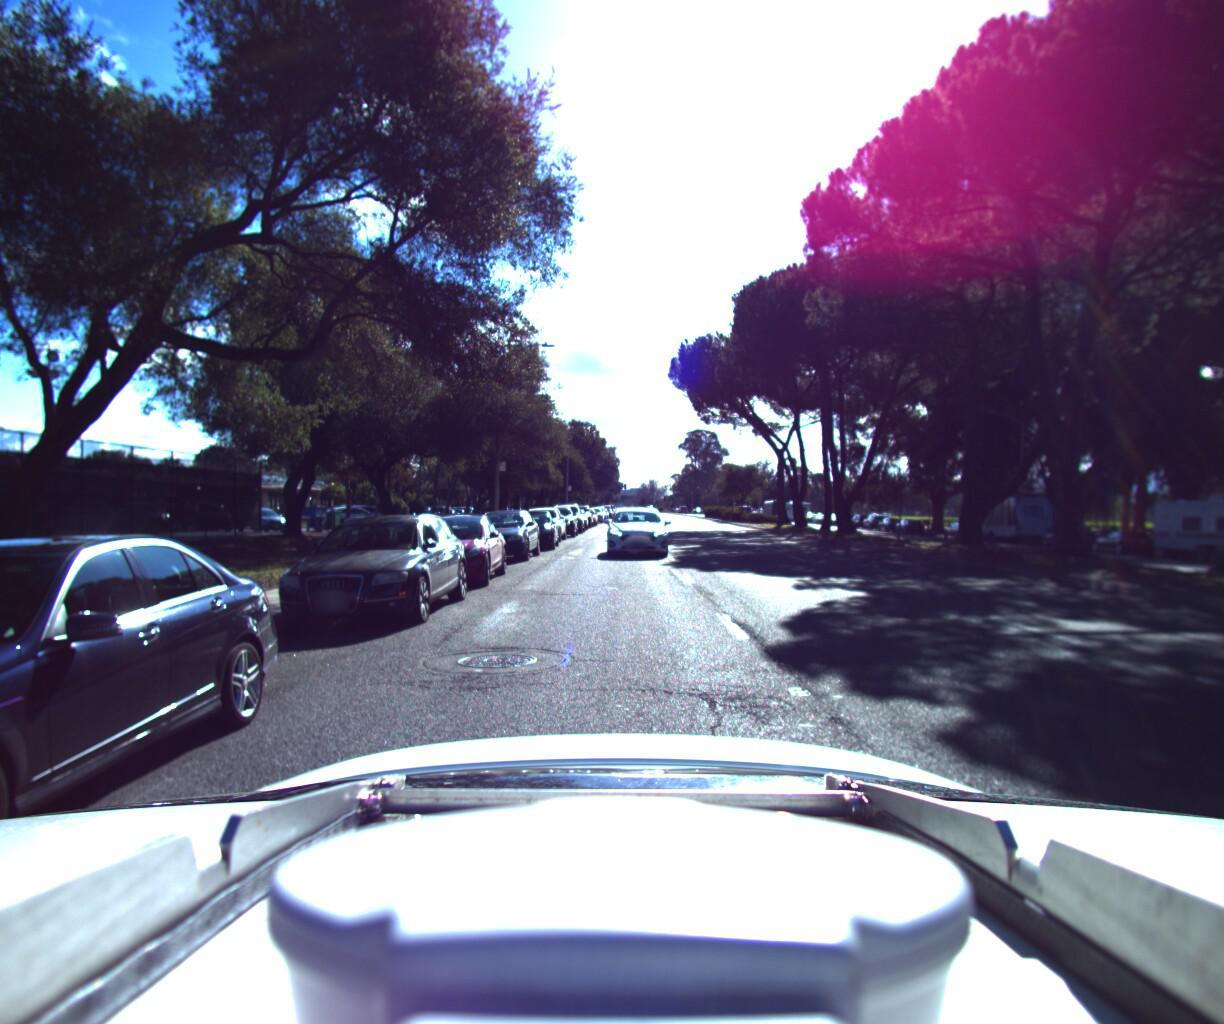car: (0, 517, 307, 1024), (259, 504, 475, 633), (383, 503, 513, 587), (461, 501, 544, 558), (602, 502, 669, 556), (501, 501, 560, 546), (1082, 520, 1160, 551), (1034, 516, 1107, 544), (518, 498, 568, 537), (538, 498, 579, 532), (547, 495, 586, 527)
other_vehicle: (1134, 482, 1224, 565), (953, 482, 1059, 537)
